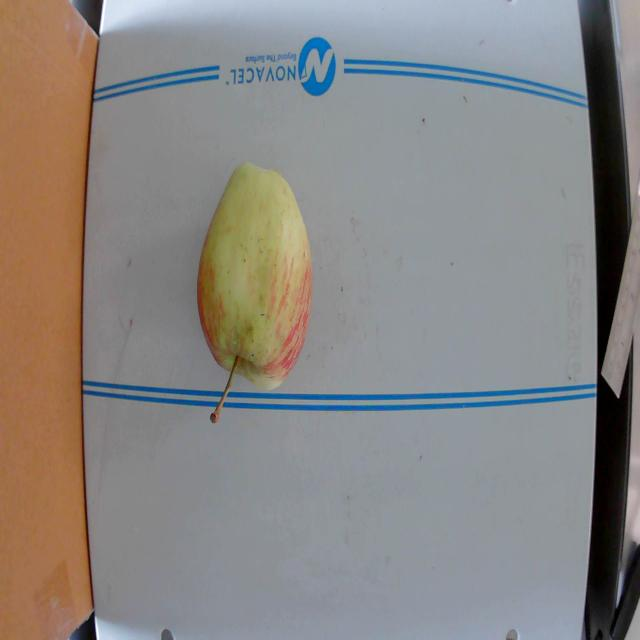apple: (197, 160, 315, 424)
